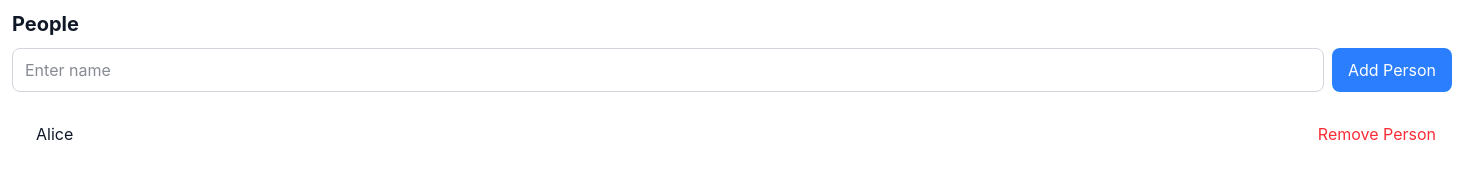
Test case: PeoplePanel › cancels edit on Escape (PEOPLE-03)
Step 1. Click the text "Alice" → (55, 134), box [36,124,73,144]
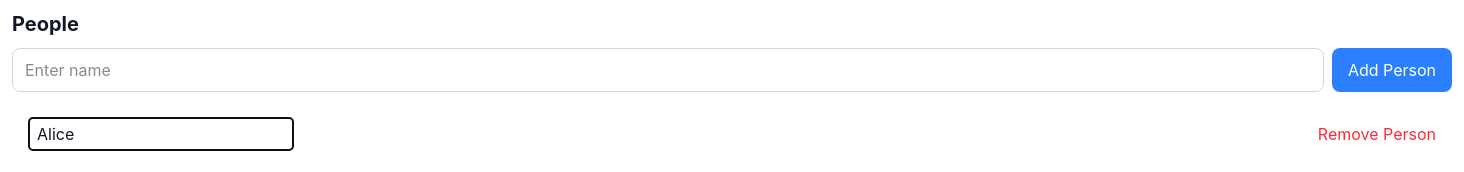
Step 2. Replace the text in the field showing "Alice" with "Wrong" → (161, 134), box [28,117,294,151]
Then press Escape
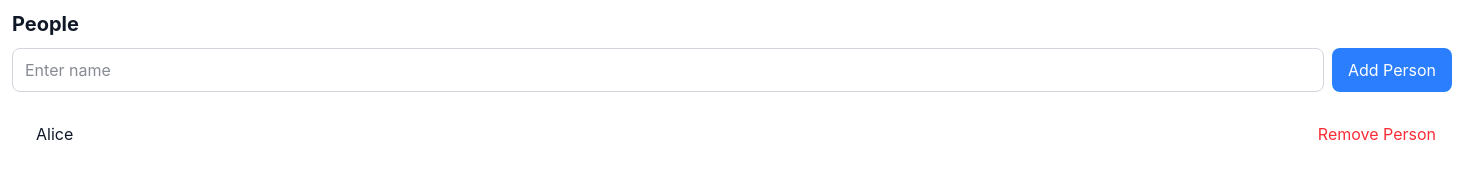
Check: the text "Alice" is shown, box [36,124,73,144]
